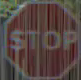Stop: (5, 9, 76, 65)
